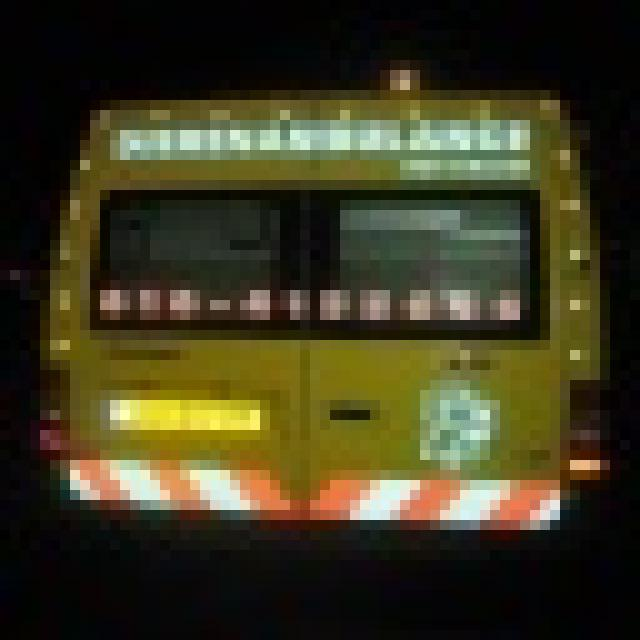Ambulance: (30, 60, 610, 530)
